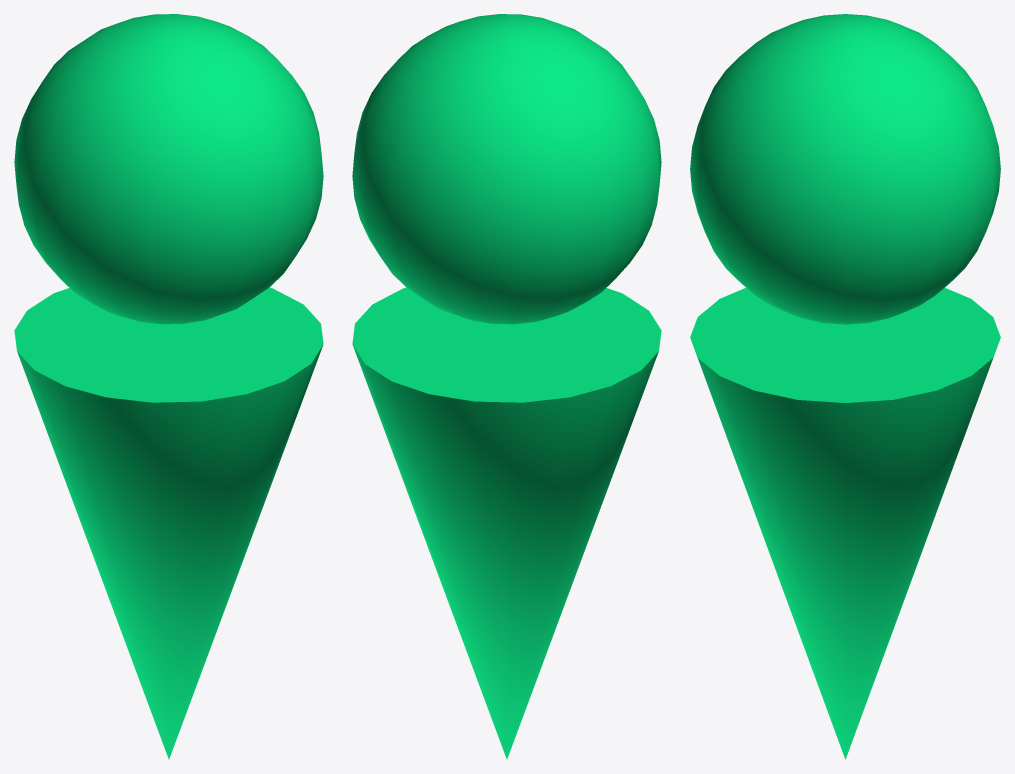
Rendered from player_green.fbx.
3 renders of one model, left to right at view 1: azimuth 30°, elevation 25°; view 2: azimuth 150°, elevation 25°; view 3: azimuth 270°, elevation 25°, orthographic.
Visible parts, largest first — view 1: pSphere1, pCone1; view 2: pSphere1, pCone1; view 3: pSphere1, pCone1.
Boxes of the visible parts, x1,y1,x2,y2 form: pSphere1: [14, 14, 323, 324]; pCone1: [14, 287, 323, 759]; pSphere1: [352, 14, 661, 324]; pCone1: [352, 287, 661, 759]; pSphere1: [690, 14, 1000, 324]; pCone1: [690, 288, 1000, 759].
Size of the model in its own units: 2 by 5.19 by 2.
